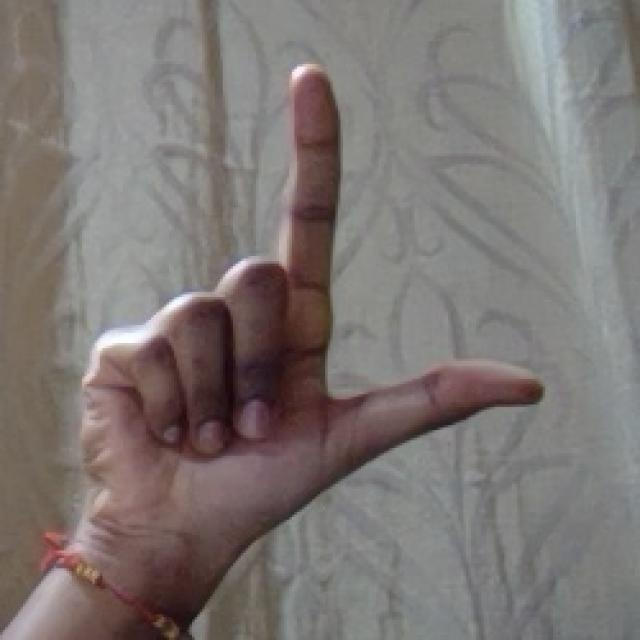Alphabet-L: (0, 67, 545, 639)
